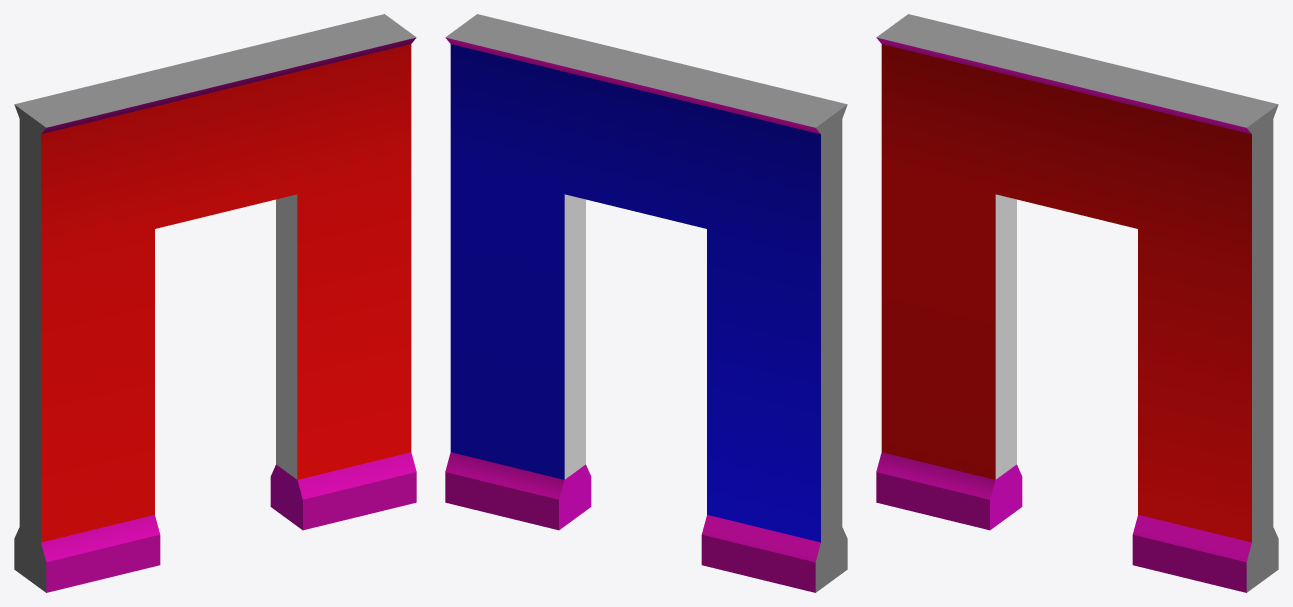
File: Door_Test_MES.FBX
3 views of the same model, side by side, from view 1: azimuth 30°, elevation 25°; view 2: azimuth 150°, elevation 25°; view 3: azimuth 330°, elevation 25° (orthographic).
Parts seen in each view (by area): view 1: ModularWall006; view 2: ModularWall006; view 3: ModularWall006.
Part boxes in pixels (x1,y1,x2,y2): ModularWall006: (14,14,416,592); ModularWall006: (445,14,847,592); ModularWall006: (876,14,1278,592).
Size of the model in its own units: 100 by 120 by 15.
